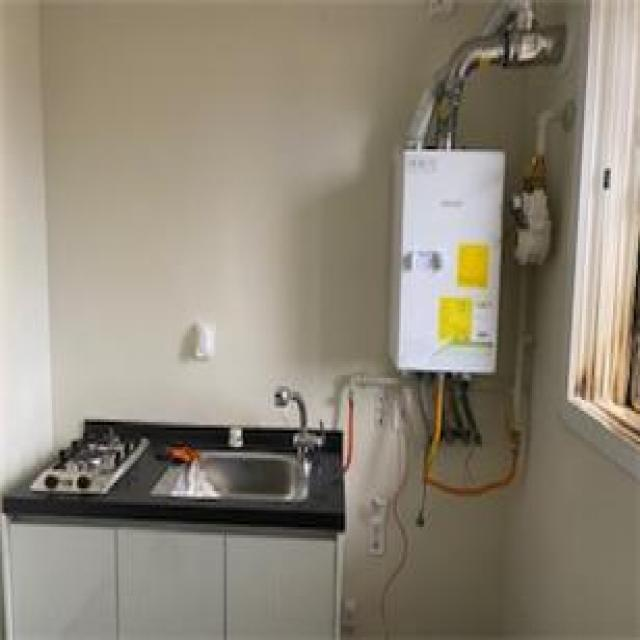Boiler: (331, 82, 529, 422)
